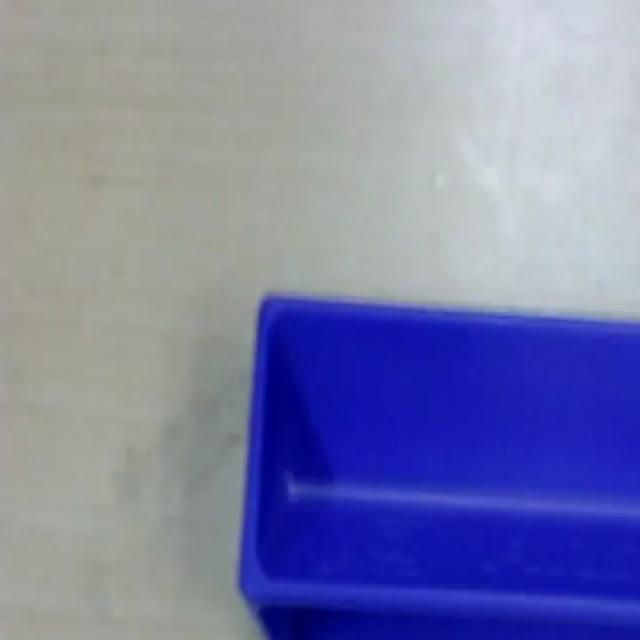blue_block: (236, 288, 638, 636)
